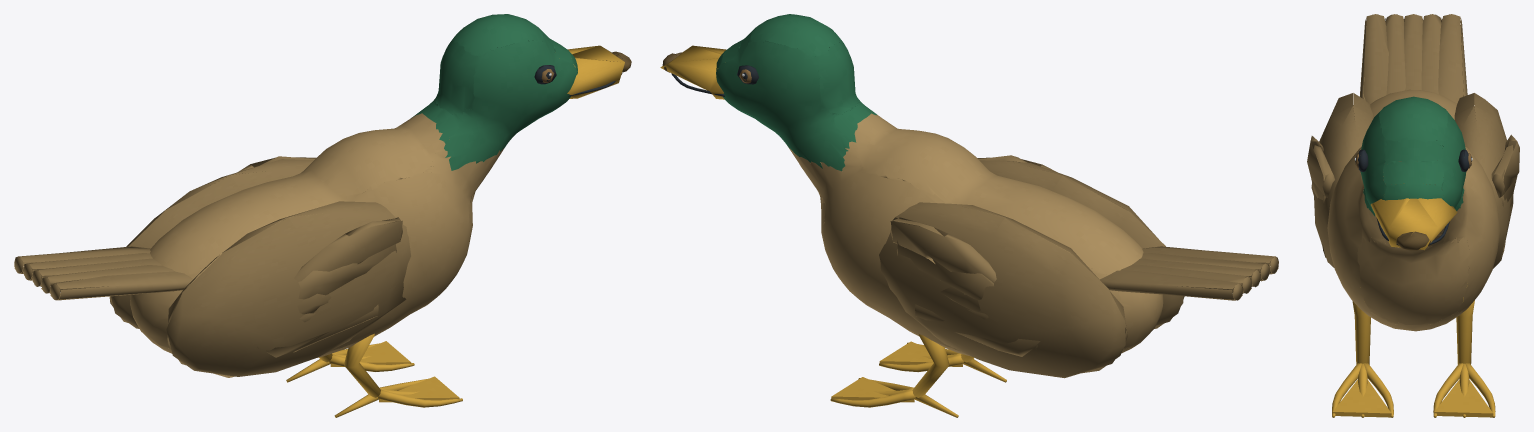
Rendered from duck.glb.
3 renders of one model, left to right at view 1: azimuth 30°, elevation 25°; view 2: azimuth 150°, elevation 25°; view 3: azimuth 270°, elevation 25°, orthographic. The views are drawn at different scales.
Visible parts, largest first — view 1: Articulated bird leg; view 2: Articulated bird leg; view 3: Articulated bird leg.
Part boxes in pixels (x1,y1,x2,y2): Articulated bird leg: (14,14,631,417); Articulated bird leg: (660,14,1278,417); Articulated bird leg: (1307,14,1519,417).
Bounding box in the file's own units: 0.6979 × 0.38 × 0.207.
8 materials, 8 textured.
